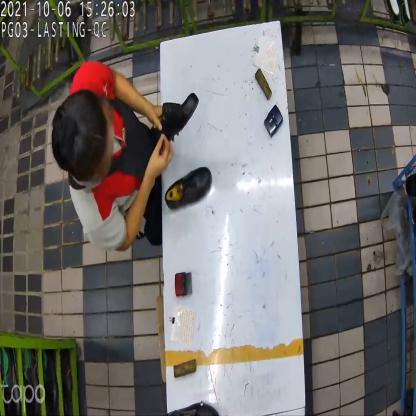shoes: (160, 100, 214, 208)
stamp: (267, 103, 285, 140), (176, 269, 194, 299)
